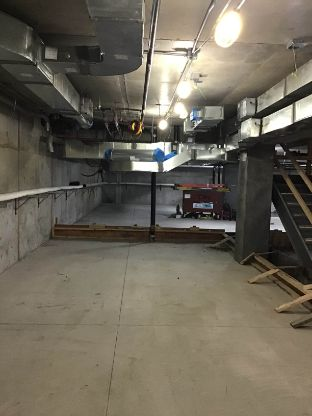Duct: (1, 5, 96, 132), (40, 1, 154, 81), (39, 133, 232, 177), (228, 52, 312, 149), (177, 96, 231, 136)
